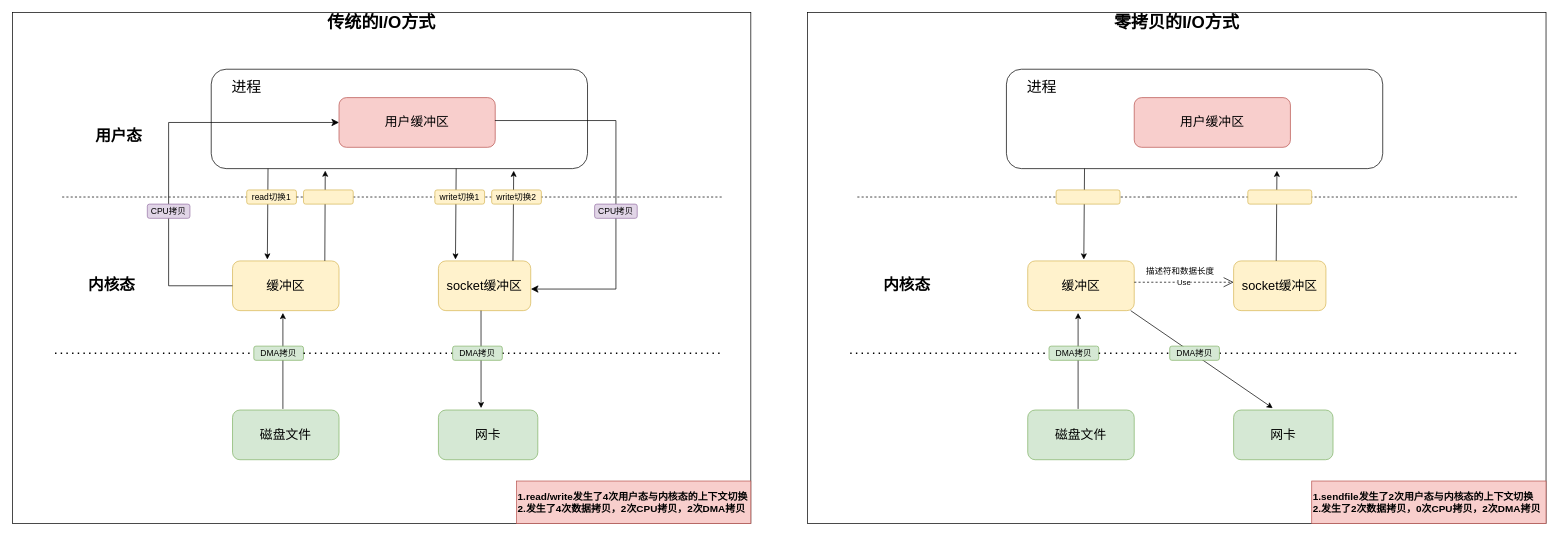
Some shapes in this 1558 by 536 pixel diagram are drawn without their labels. Here are the shapes that lost their labels. From the top down, the centre of each, then its label:
[328,196]: read切换2
[1087,196]: sendfile切换
[1279,196]: sendfile切换2
